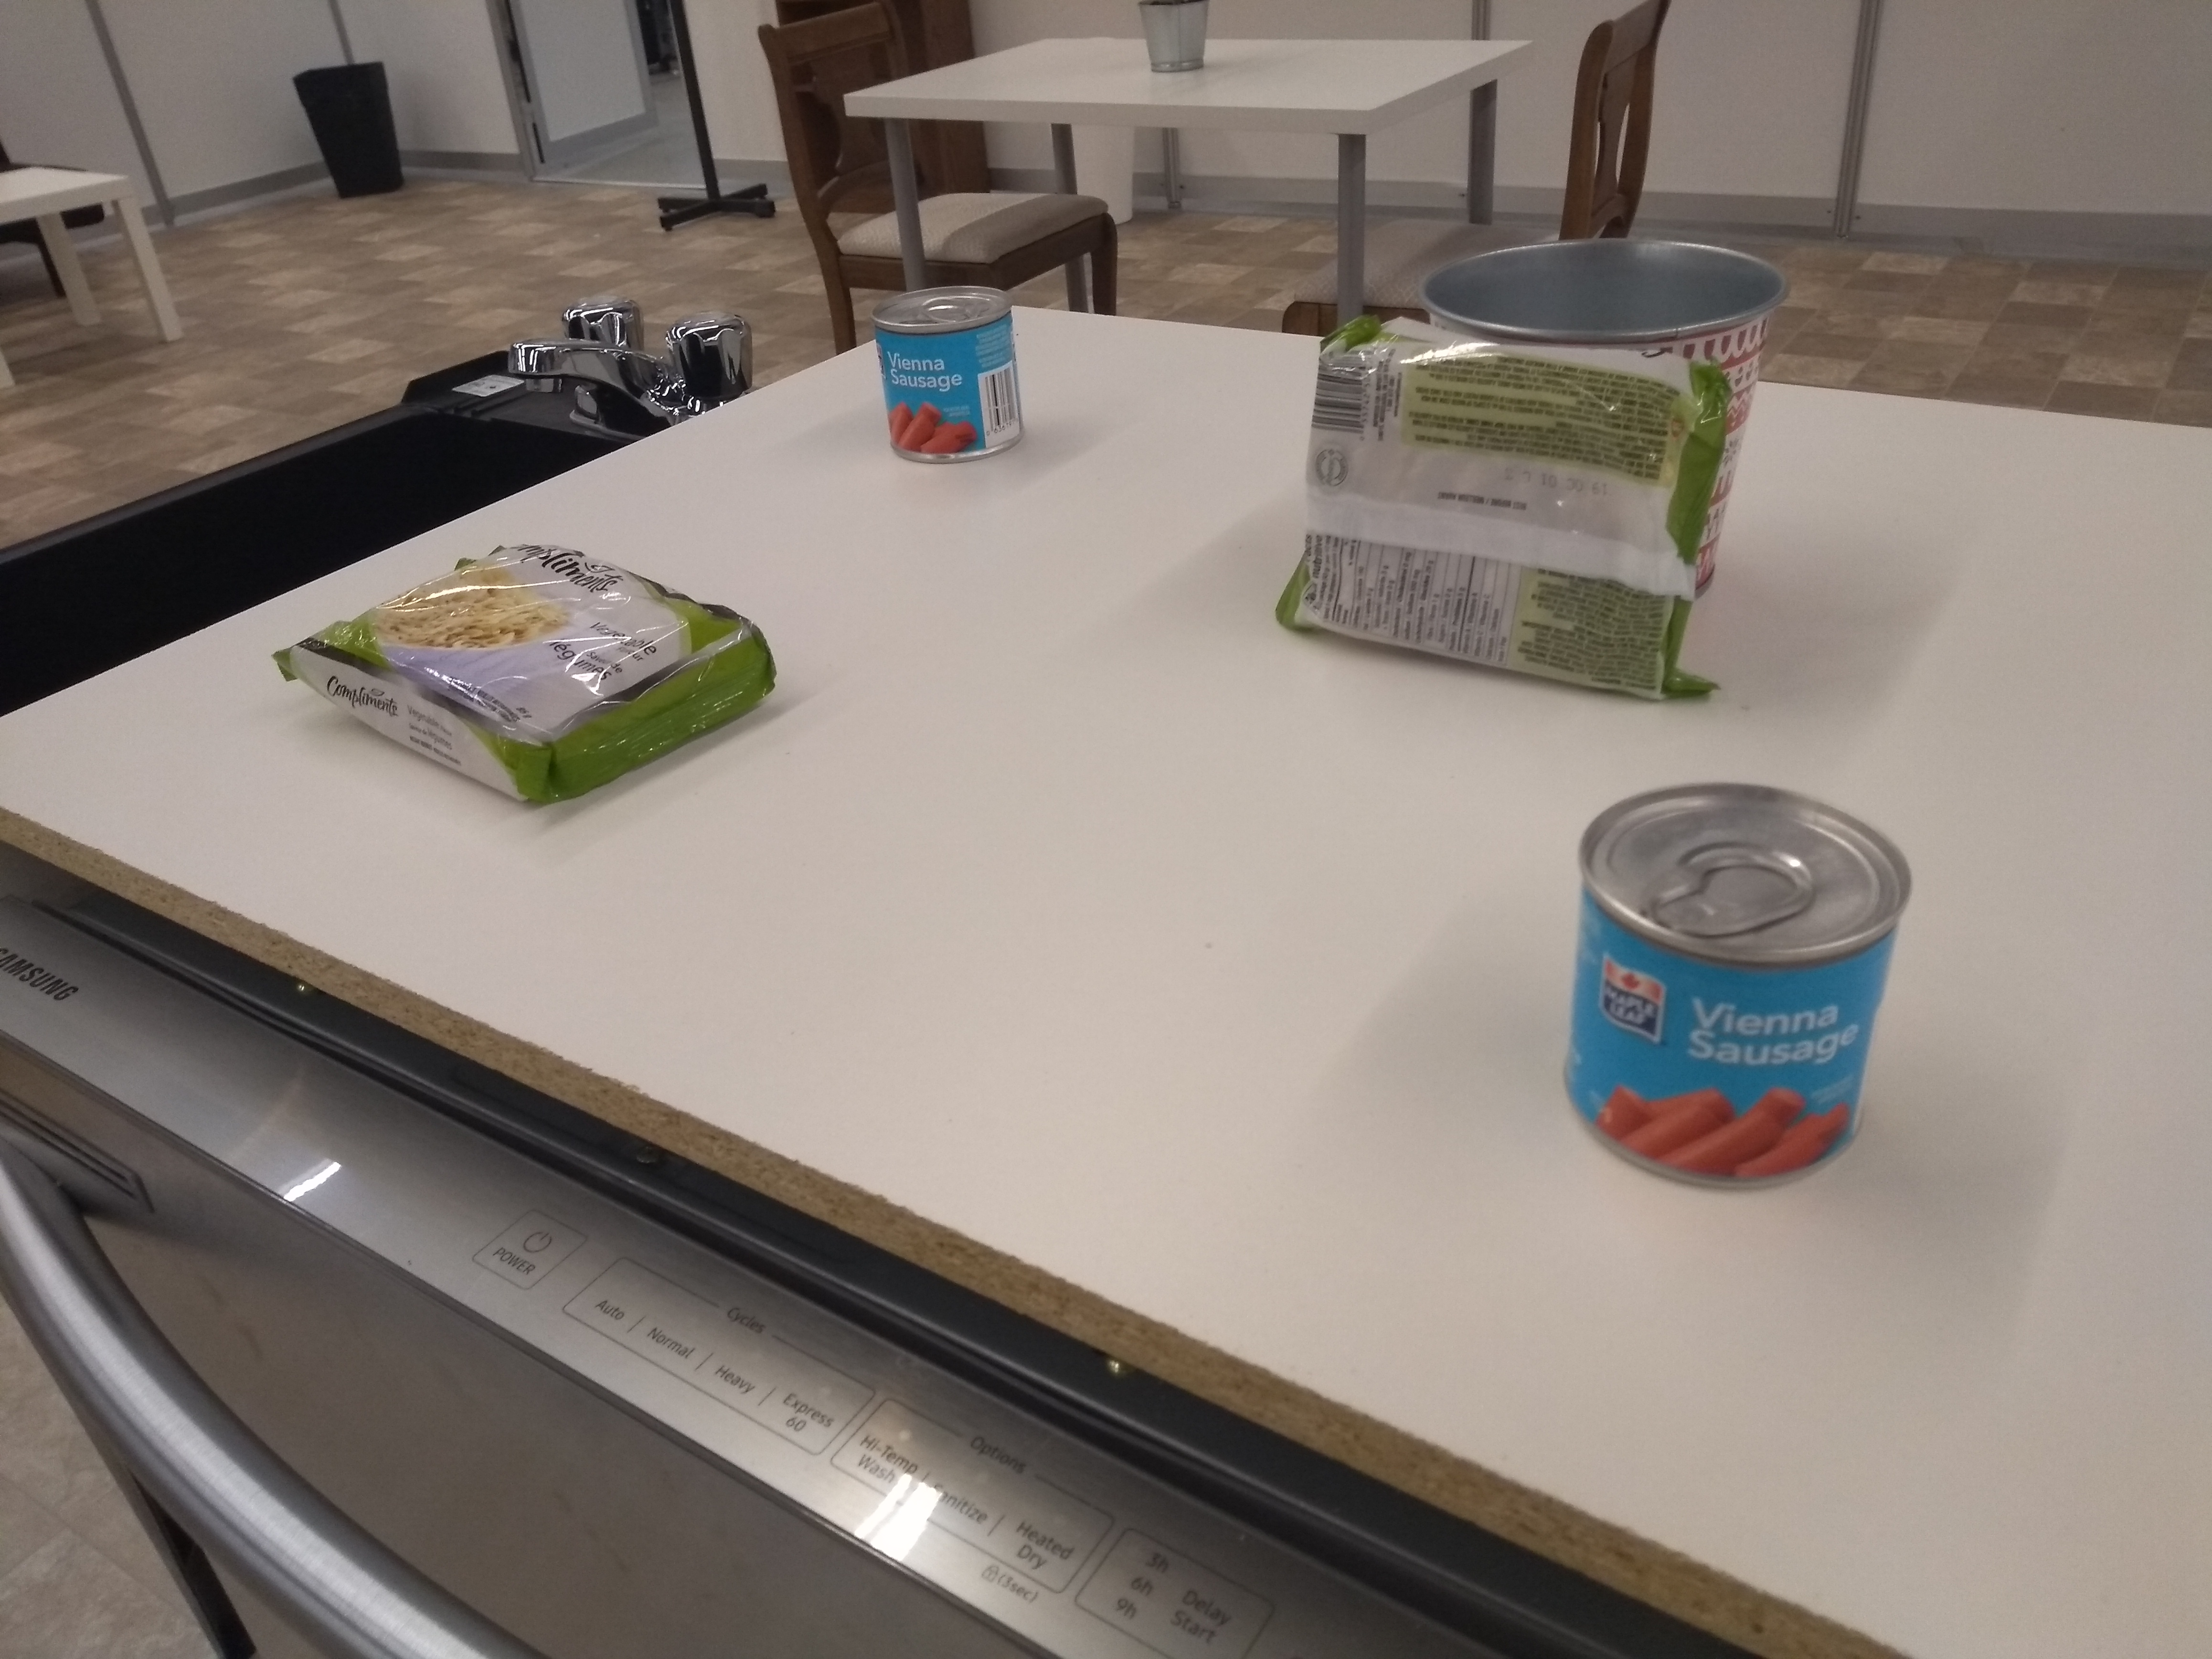noodles: (1261, 314, 1745, 716), (258, 530, 789, 823)
sausages: (1555, 774, 1923, 1195), (864, 275, 1024, 471)
